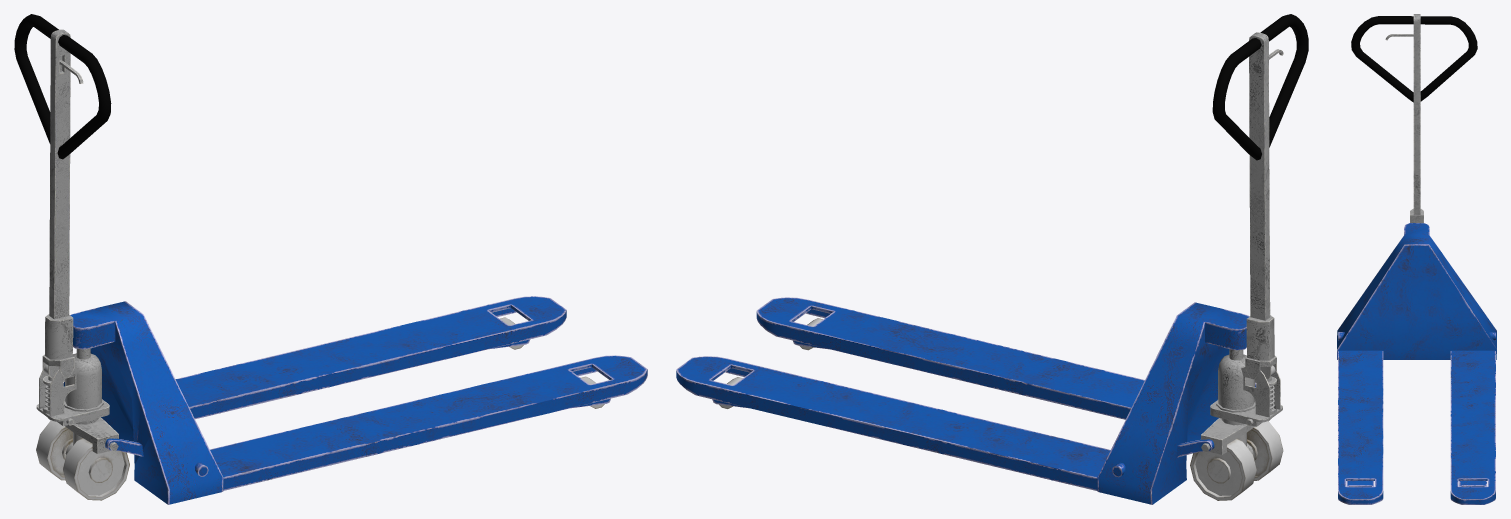
The model's file is Transpallet_new.FBX.
3 views of the same model, side by side, from view 1: azimuth 30°, elevation 25°; view 2: azimuth 150°, elevation 25°; view 3: azimuth 270°, elevation 25° (orthographic). The views are drawn at different scales.
Visible parts, largest first — view 1: Palleteira; view 2: Palleteira; view 3: Palleteira.
Boxes of the visible parts, left/top/right/bottom form: Palleteira: left=14, top=14, right=647, bottom=504; Palleteira: left=676, top=14, right=1308, bottom=504; Palleteira: left=1337, top=14, right=1496, bottom=504.
Bounding box in the file's own units: 154 × 122 × 55.12.
